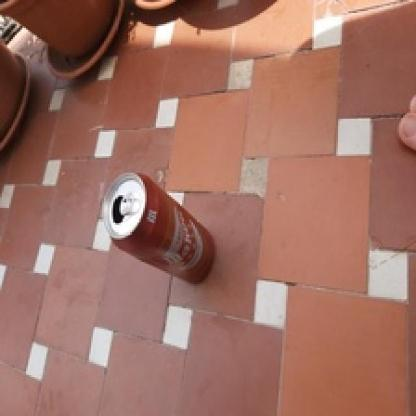Can: (99, 174, 217, 286)
